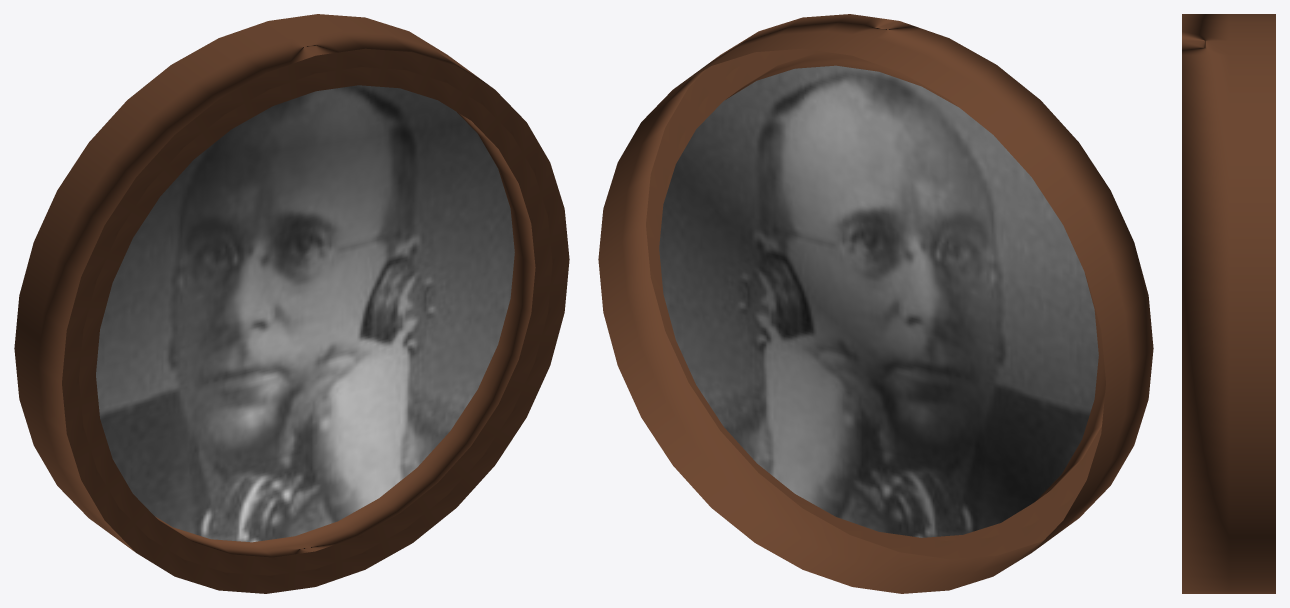
The model's file is piece1.glb.
3 renders of one model, left to right at view 1: azimuth 30°, elevation 25°; view 2: azimuth 150°, elevation 25°; view 3: azimuth 270°, elevation 25°, orthographic.
Parts seen in each view (by area): view 1: Cylinder.007; view 2: Cylinder.007; view 3: Cylinder.007.
Part boxes in pixels (x1,y1,x2,y2): Cylinder.007: [14, 14, 569, 593]; Cylinder.007: [598, 14, 1153, 593]; Cylinder.007: [1182, 14, 1275, 593].
Size of the model in its own units: 0.2655 by 0.2655 by 0.043.
Materials: 2 (1 with a texture image).
